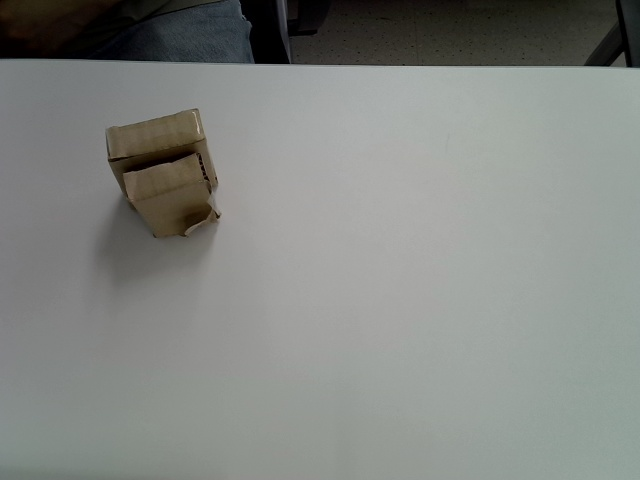defect: (122, 154, 221, 241)
normal: (105, 108, 218, 196)
